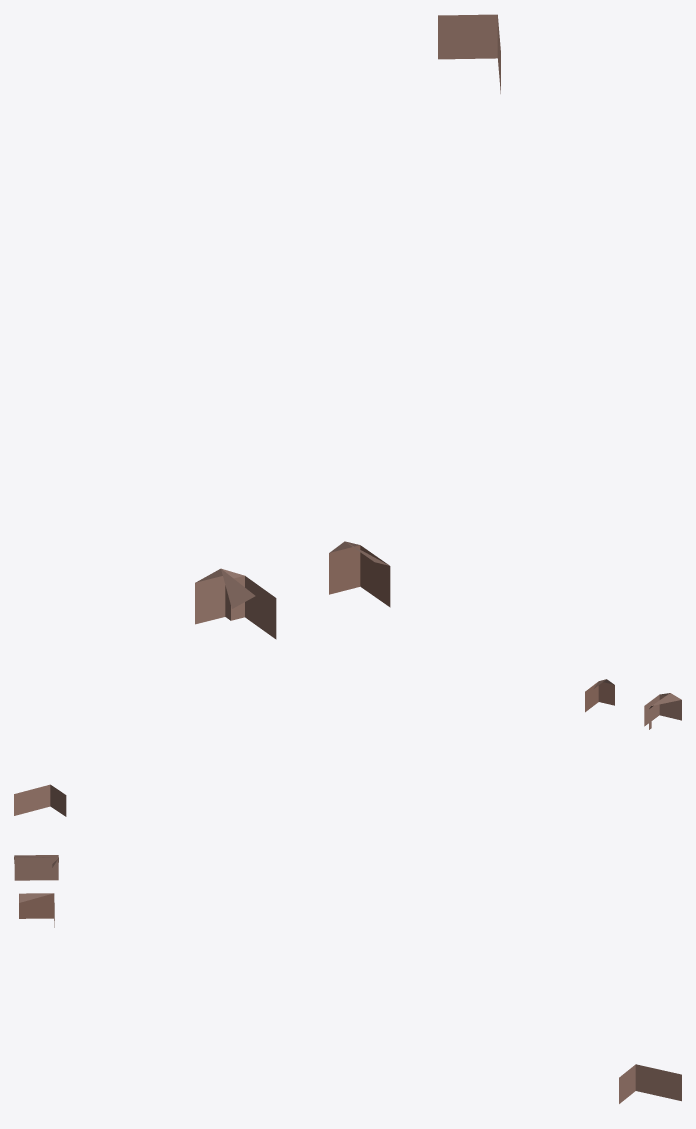
Rendered from c_1636_17833_buildings_residential.glb.
The picture shows the model from 3 angles, top to bottom: view 1: azimuth 30°, elevation 25°; view 2: azimuth 150°, elevation 25°; view 3: azimuth 270°, elevation 25°; orthographic projection. The views are drawn at different scales.
Parts seen in each view (by area): view 1: geometry_0; view 2: geometry_0; view 3: geometry_0.
Part boxes in pixels (x1,y1,x2,y2): geometry_0: [195, 14, 500, 639]; geometry_0: [14, 679, 681, 816]; geometry_0: [14, 855, 681, 1103].
Bounding box in the file's own units: 181 × 10.83 × 215.
